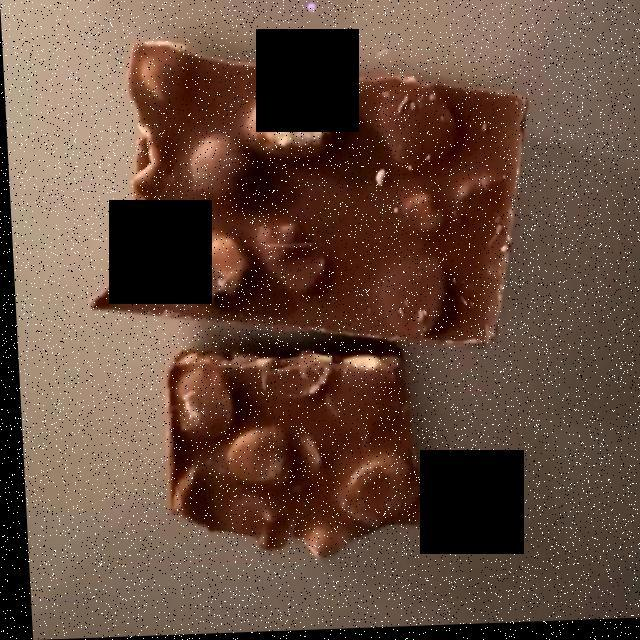chocolate: (93, 40, 535, 562)
